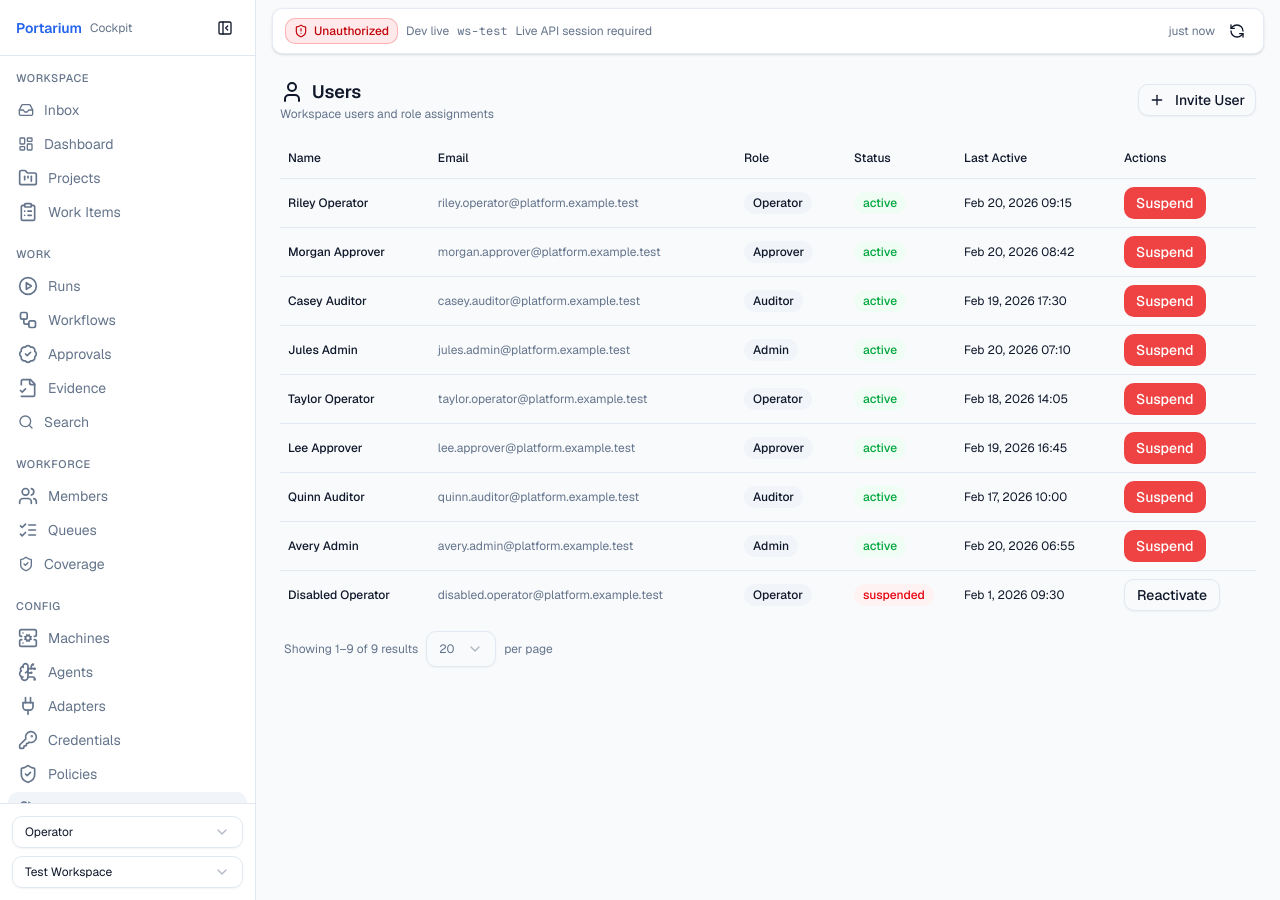
Test: Users/RBAC management page › opens the invite dialog when Invite User is clicked
Click the button "Invite User" at (1197, 100), box [1138,84,1256,116]
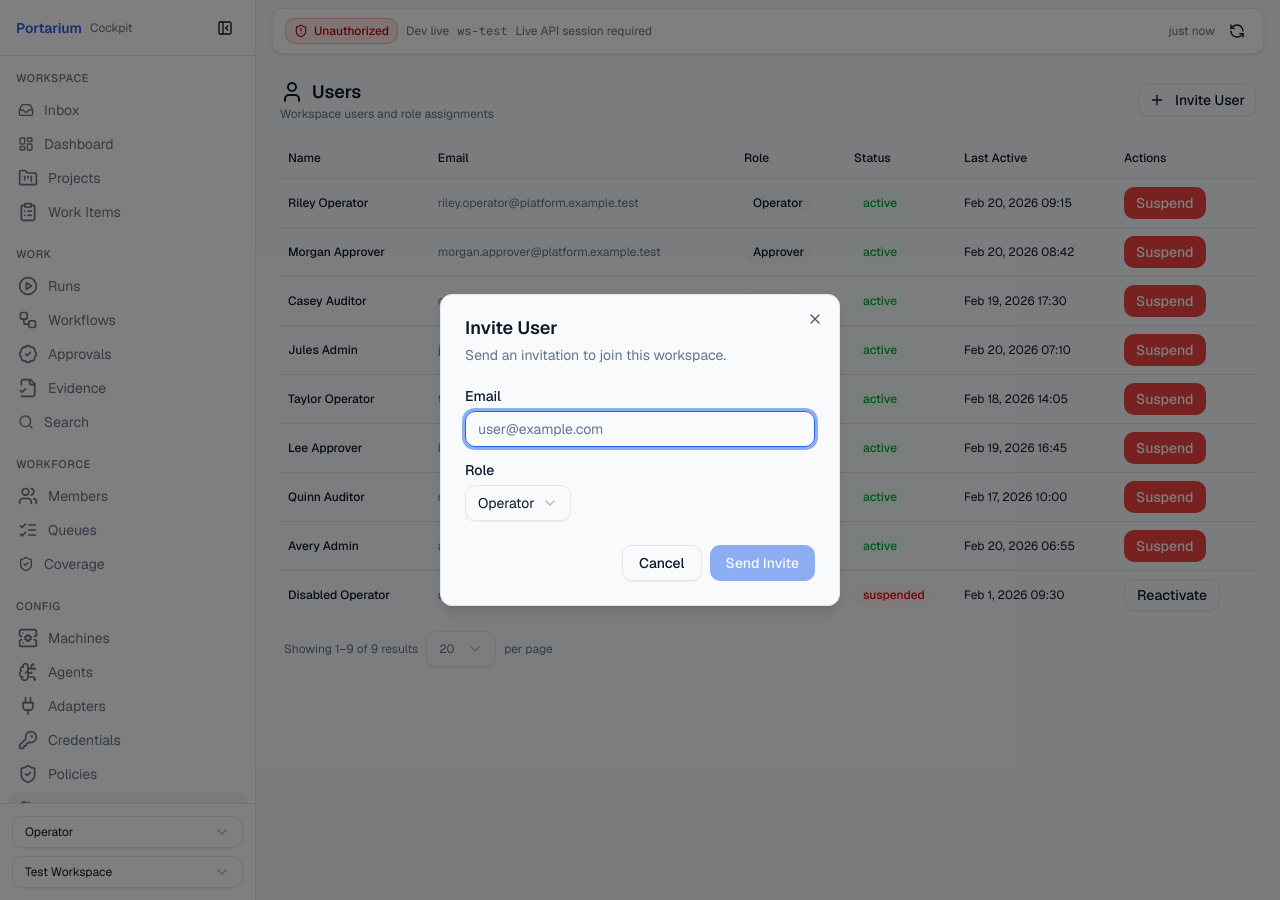
Result: the dialog is shown at [440,294,840,606]
Result: the field labelled "Email" is shown at [465,411,815,447]
